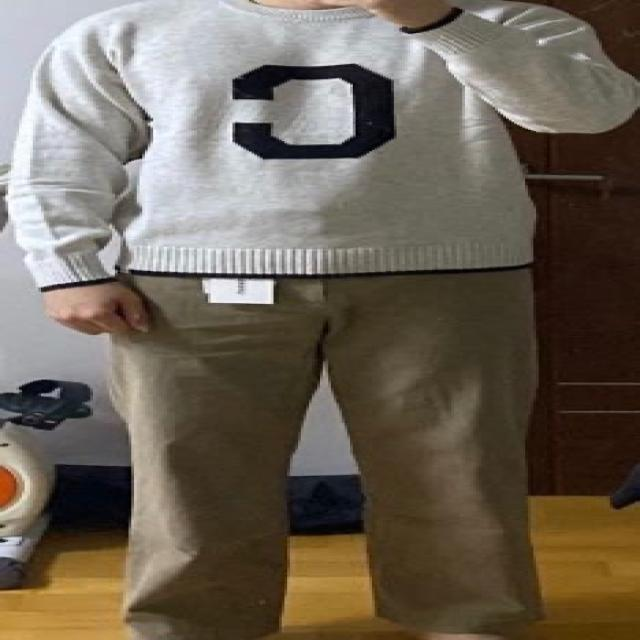cottonpants: (97, 268, 543, 640)
sweater: (17, 2, 633, 297)
